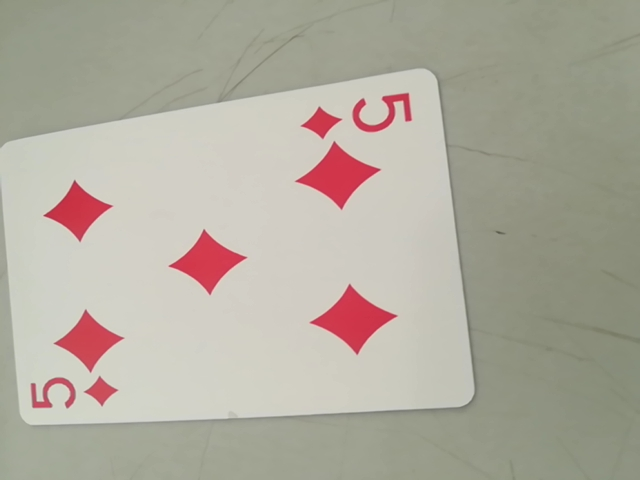fk 5: (303, 87, 419, 143), (17, 368, 120, 422)
